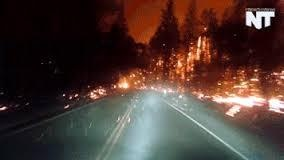fire: (112, 27, 278, 120)
